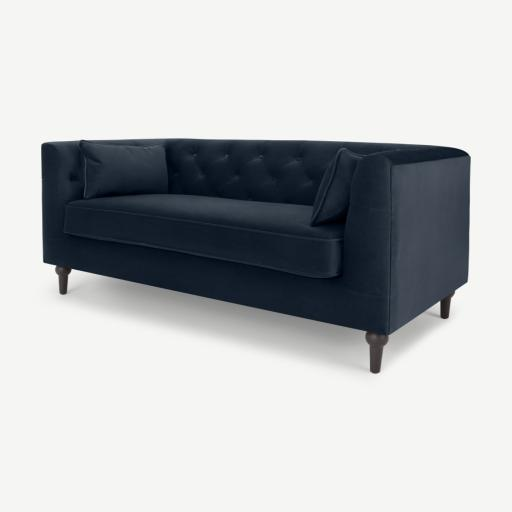back_cushion: (164, 139, 405, 206)
base: (43, 235, 388, 334)
left_arm: (389, 157, 469, 331)
legs: (366, 332, 388, 373), (56, 266, 70, 294), (442, 297, 450, 314)
one-seater: (42, 139, 470, 372)
right_arm: (42, 142, 83, 258), (107, 139, 163, 145)
seat_cushion: (64, 194, 344, 278)
